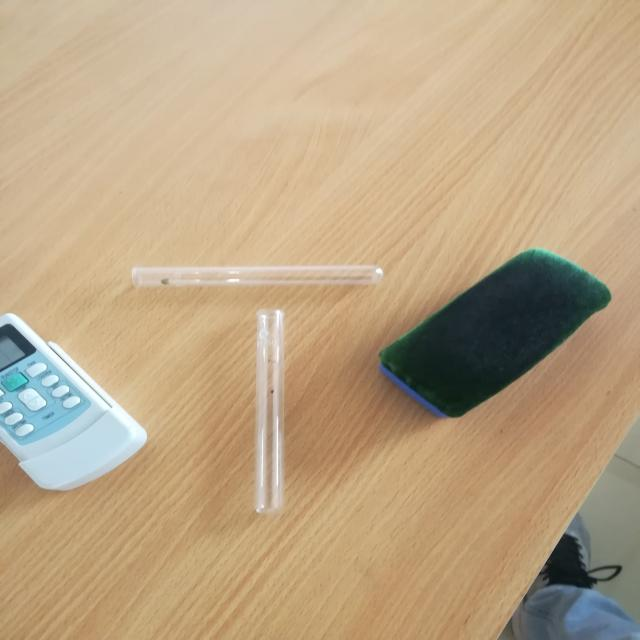Test_Tube: (220, 299, 323, 532), (110, 242, 406, 313)
